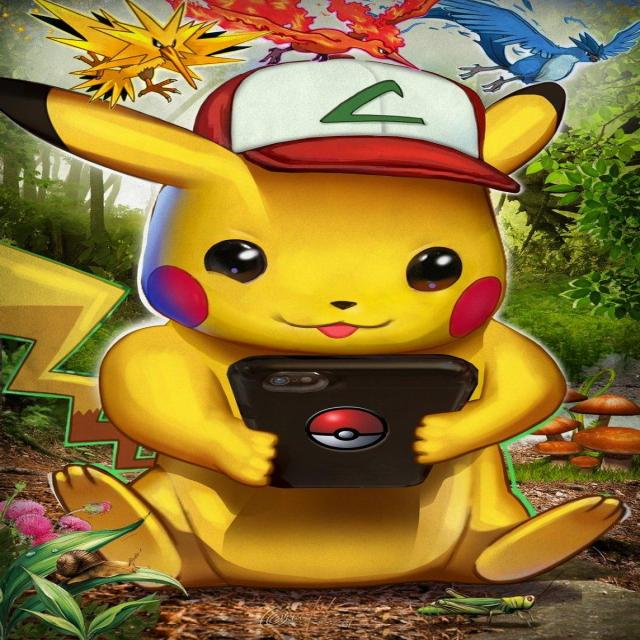pikachu: (2, 79, 626, 592)
